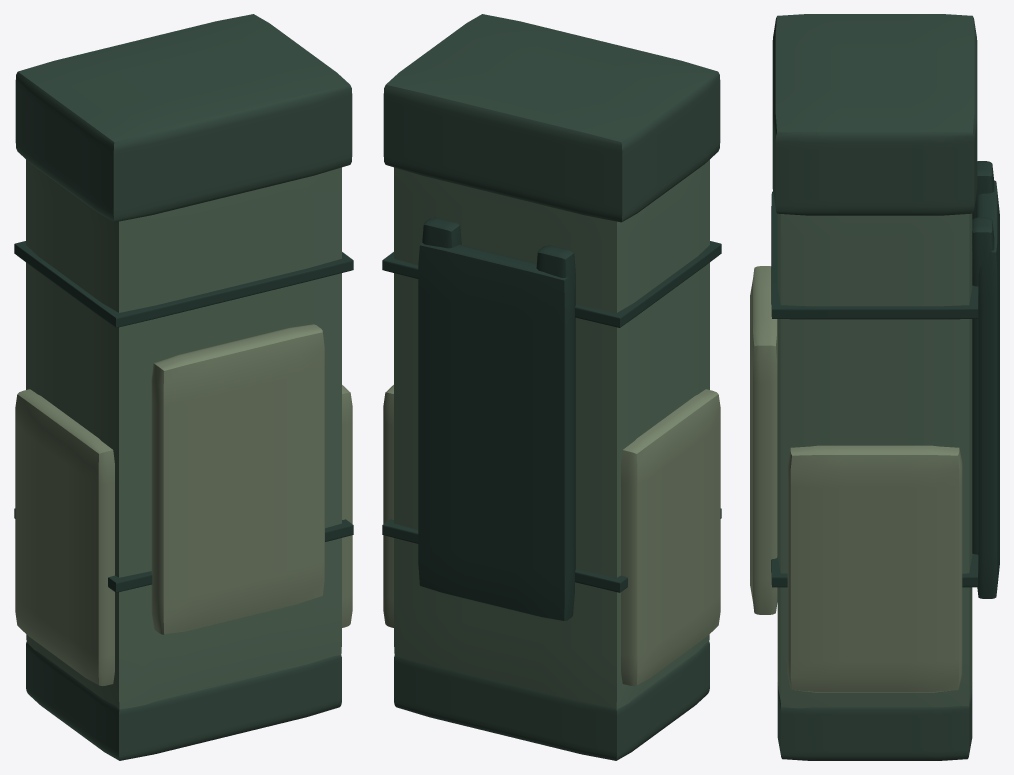
The model's file is shanxing-procedural-backpack-assembly-demo.glb.
3 views of the same model, side by side, from view 1: azimuth 30°, elevation 25°; view 2: azimuth 150°, elevation 25°; view 3: azimuth 270°, elevation 25° (orthographic).
Visible parts, largest first — view 1: 主仓包体, 顶部仓盖, 前置收纳袋, 左侧袋, 底部加固层, 上部压缩带, 右侧袋, 下部压缩带; view 2: 主仓包体, 背负面板, 顶部仓盖, 左侧袋, 底部加固层, 上部压缩带, 右侧袋, 左肩带, 下部压缩带, 右肩带; view 3: 主仓包体, 右侧袋, 顶部仓盖, 底部加固层, 前置收纳袋, 背负面板, 上部压缩带, 右肩带, 下部压缩带, 左肩带.
Boxes of the visible parts, box(x1,y1,x2,y2) form: 主仓包体: box(26, 159, 341, 709); 顶部仓盖: box(15, 14, 352, 222); 前置收纳袋: box(151, 324, 324, 634); 左侧袋: box(15, 389, 114, 686); 底部加固层: box(26, 642, 341, 760); 上部压缩带: box(14, 241, 353, 327); 右侧袋: box(342, 385, 352, 627); 下部压缩带: box(14, 508, 353, 592); 主仓包体: box(394, 159, 709, 709); 背负面板: box(418, 242, 574, 620); 顶部仓盖: box(383, 14, 720, 222); 左侧袋: box(621, 389, 720, 686); 底部加固层: box(394, 641, 709, 760); 上部压缩带: box(382, 241, 721, 327); 右侧袋: box(383, 385, 393, 627); 左肩带: box(536, 245, 575, 570); 下部压缩带: box(382, 508, 721, 592); 右肩带: box(422, 217, 461, 248); 主仓包体: box(777, 213, 972, 708); 右侧袋: box(787, 445, 962, 692); 顶部仓盖: box(772, 14, 977, 215); 底部加固层: box(777, 682, 972, 760); 前置收纳袋: box(750, 266, 777, 614); 背负面板: box(975, 180, 999, 598); 上部压缩带: box(771, 191, 978, 319); 右肩带: box(972, 217, 994, 554); 下部压缩带: box(771, 553, 978, 587); 左肩带: box(972, 161, 994, 219).
Size of the model in its own units: 0.34 by 0.79 by 0.28.
